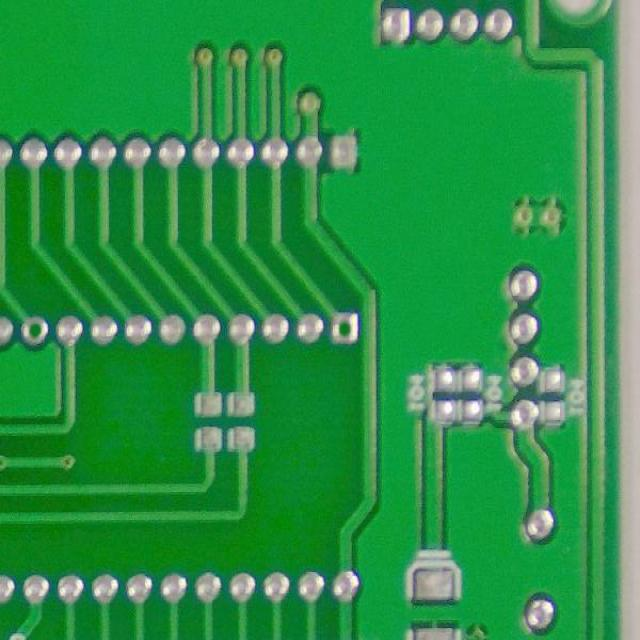missing hole: (326, 308, 363, 349), (16, 312, 52, 351)
